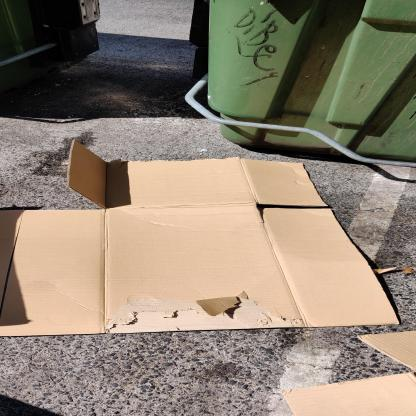karton: (1, 141, 404, 338), (284, 374, 415, 416), (360, 331, 416, 370)
